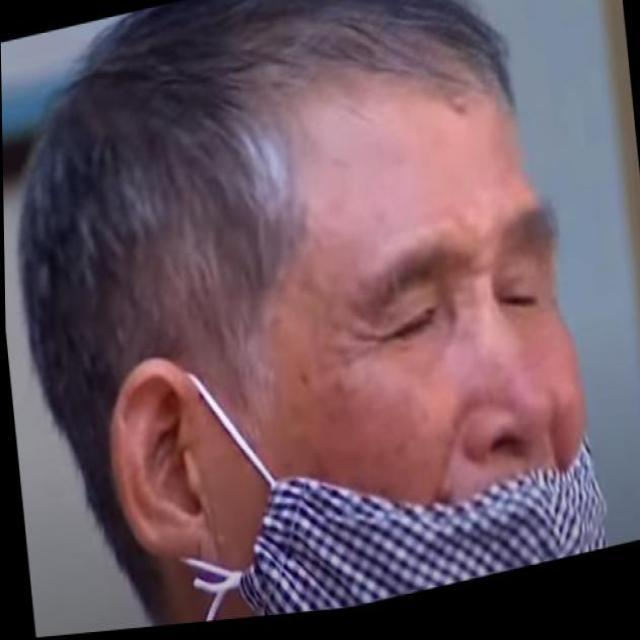hairnet: (209, 196, 608, 624)
